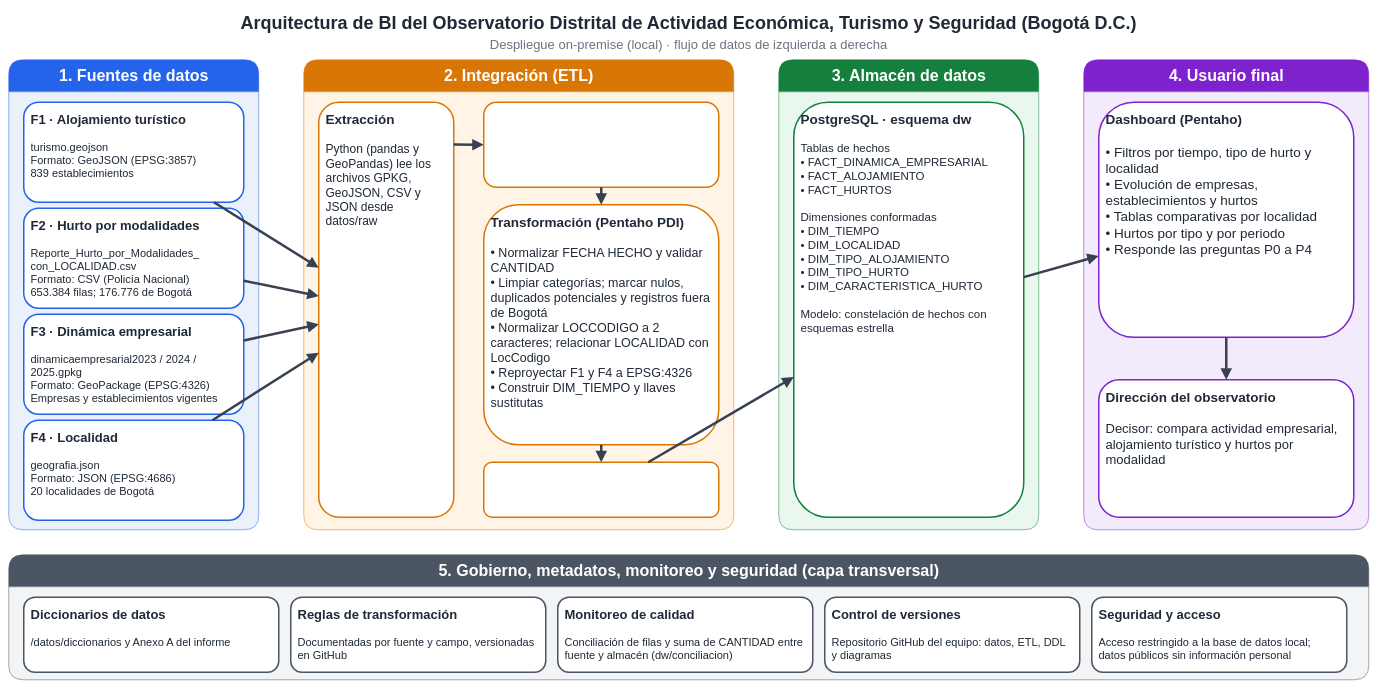
The diagram is 1378 pixels wide and 689 high, and some of its shapes have lost their labels. The shapes that lost their labels are listed below. From the top down, each one's centre as x and y in pixels, then its label:
At (x=601, y=144): "Staging Tablas de paso en PostgreSQL (esquema stg) con los datos tal como llegan".
At (x=601, y=489): "Carga al DW (Pentaho PDI) Dimensiones y luego hechos".
